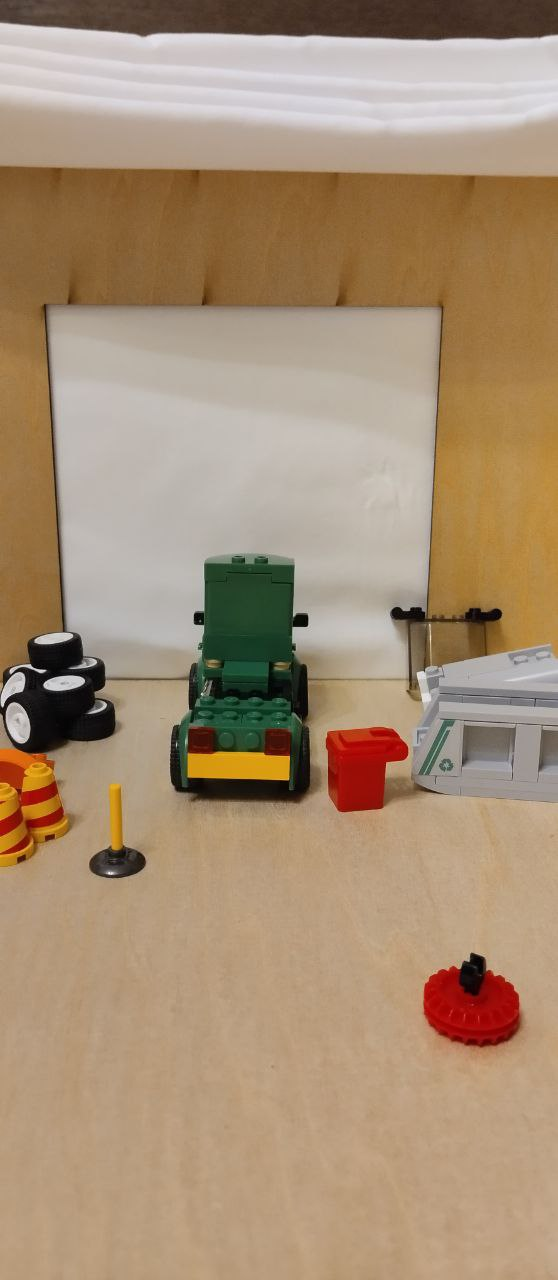Cone: (19, 758, 77, 842), (1, 783, 44, 871)
Object Red: (318, 723, 413, 815)
Truck: (164, 546, 322, 806)
